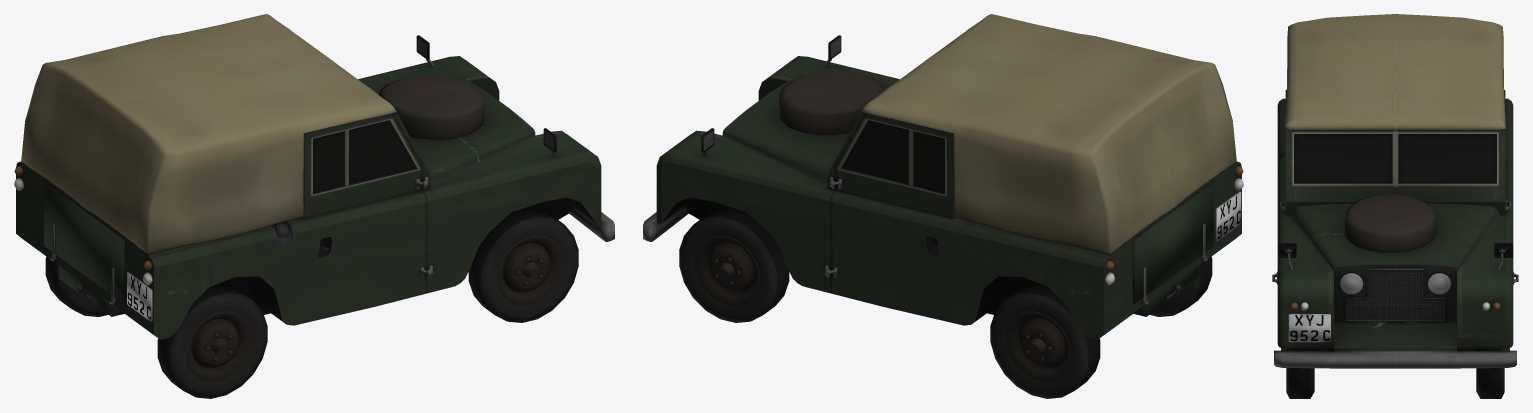
3 renders of one model, left to right at view 1: azimuth 30°, elevation 25°; view 2: azimuth 150°, elevation 25°; view 3: azimuth 270°, elevation 25°, orthographic. The views are drawn at different scales.
Visible parts, largest first — view 1: body0_model0_lod0_mesh0; view 2: body0_model0_lod0_mesh0; view 3: body0_model0_lod0_mesh0.
Boxes of the visible parts, box(x1,y1,x2,y2) form: body0_model0_lod0_mesh0: box(14, 14, 614, 398); body0_model0_lod0_mesh0: box(643, 14, 1243, 398); body0_model0_lod0_mesh0: box(1272, 14, 1518, 398).
Size of the model in its own units: 205 by 111 by 108.
Materials: 1 (1 with a texture image).
